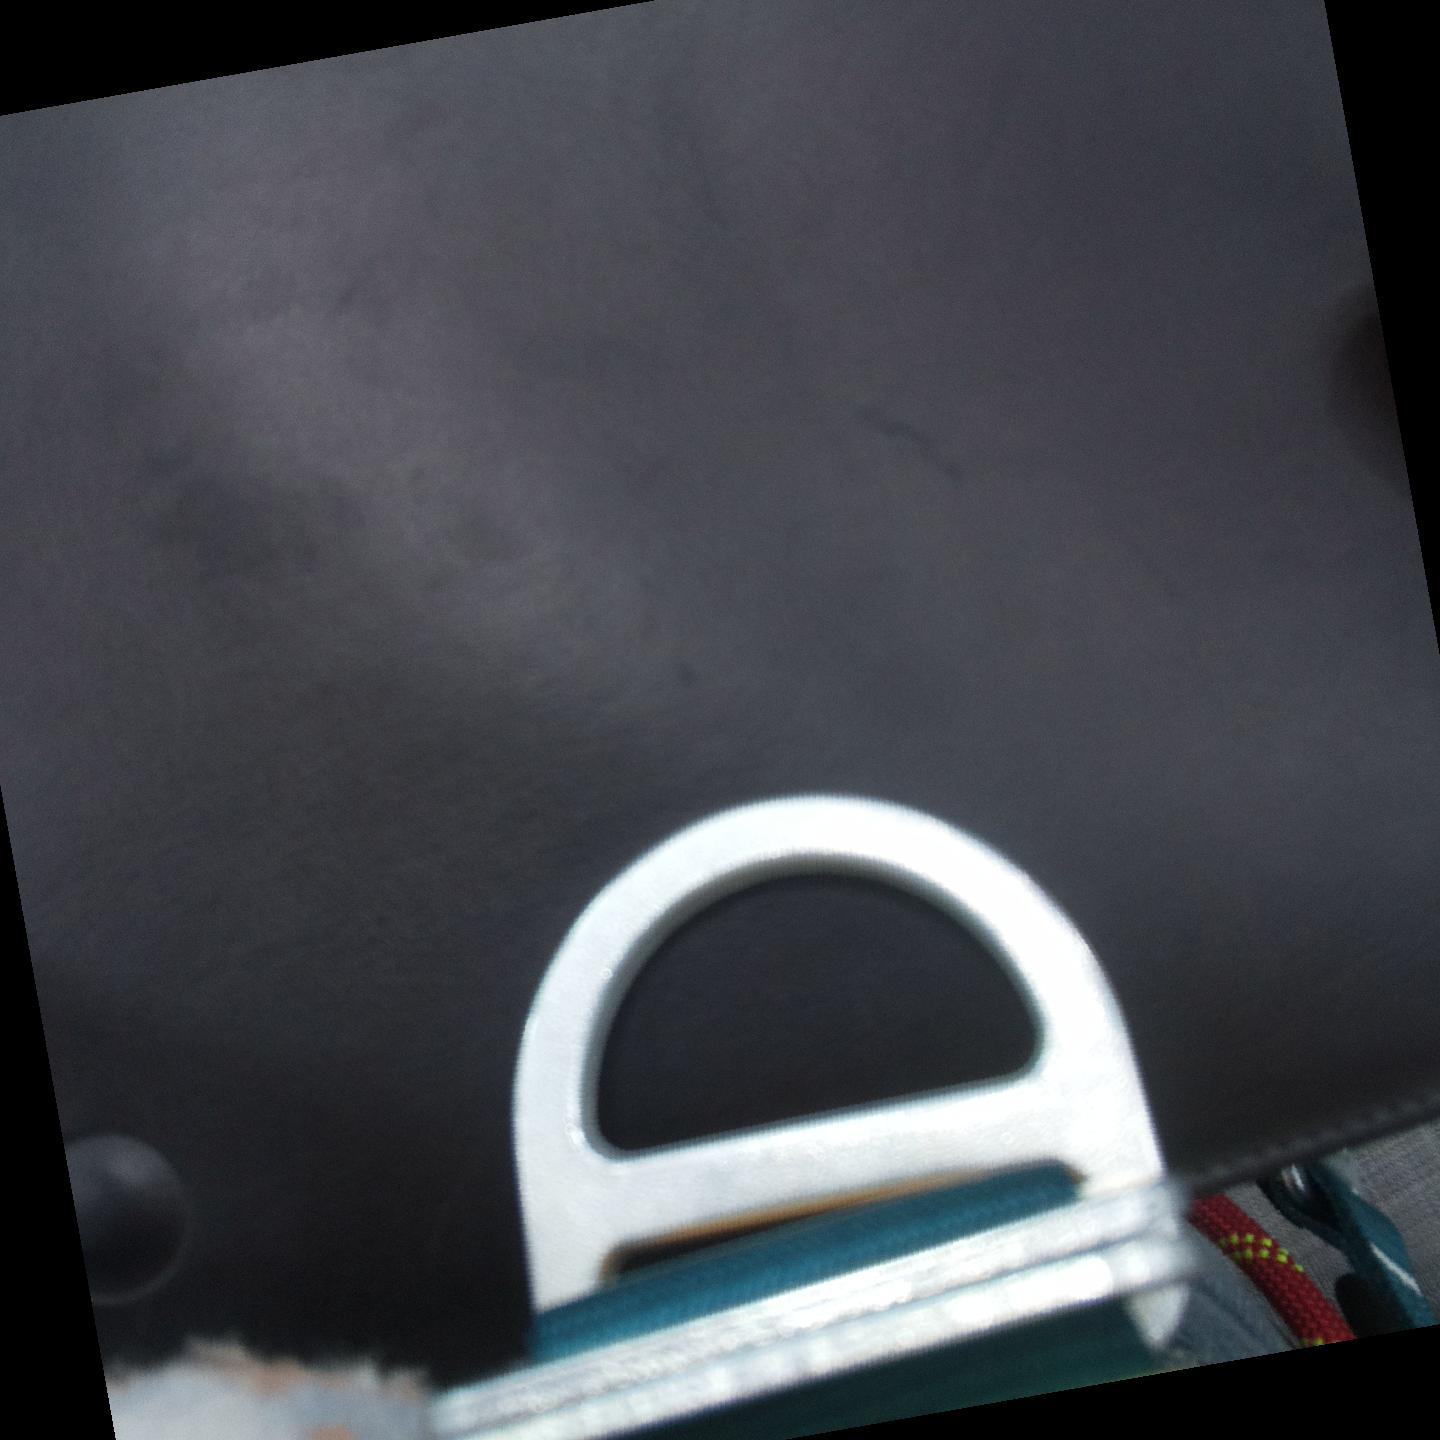UNSUCCESS: (509, 779, 1168, 1333)
